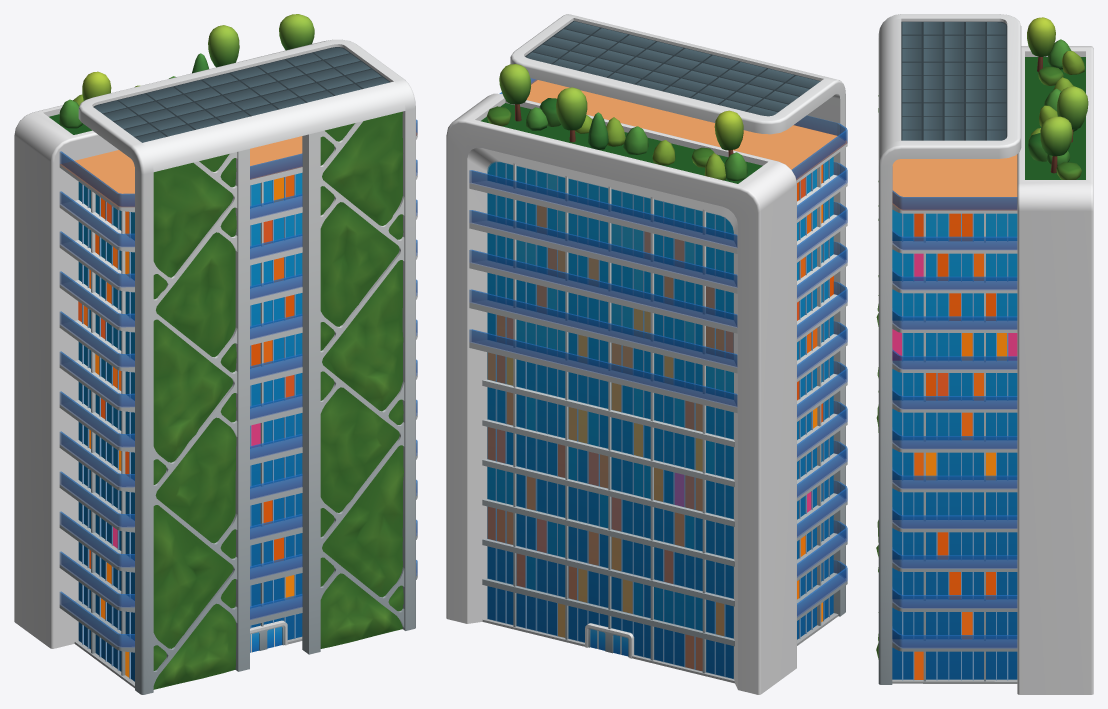
File: Eco_Building_Grid.glb
The picture shows the model from 3 angles, left to right: view 1: azimuth 30°, elevation 25°; view 2: azimuth 150°, elevation 25°; view 3: azimuth 270°, elevation 25°; orthographic projection.
Visible parts, largest first — view 1: Eco_Building_Grid, Eco_Building_Grid_NightLight; view 2: Eco_Building_Grid, Eco_Building_Grid_NightLight; view 3: Eco_Building_Grid, Eco_Building_Grid_NightLight.
Boxes of the visible parts, x1,y1,x2,y2 form: Eco_Building_Grid: (14,14,417,694); Eco_Building_Grid_NightLight: (78,175,294,677); Eco_Building_Grid: (446,14,847,694); Eco_Building_Grid_NightLight: (487,164,833,670); Eco_Building_Grid: (876,14,1093,694); Eco_Building_Grid_NightLight: (892,213,1017,679).
Size of the model in its own units: 30.86 by 51.74 by 18.48.
4 materials, 4 textured.
